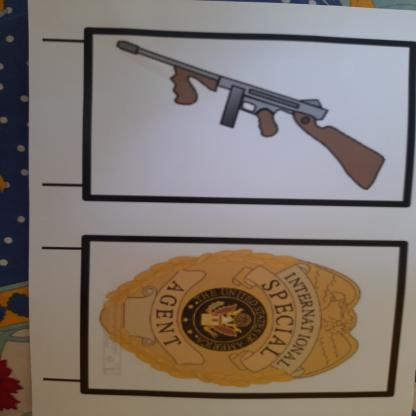Bootlegger: (96, 29, 406, 200)
G-man: (85, 245, 373, 399)
